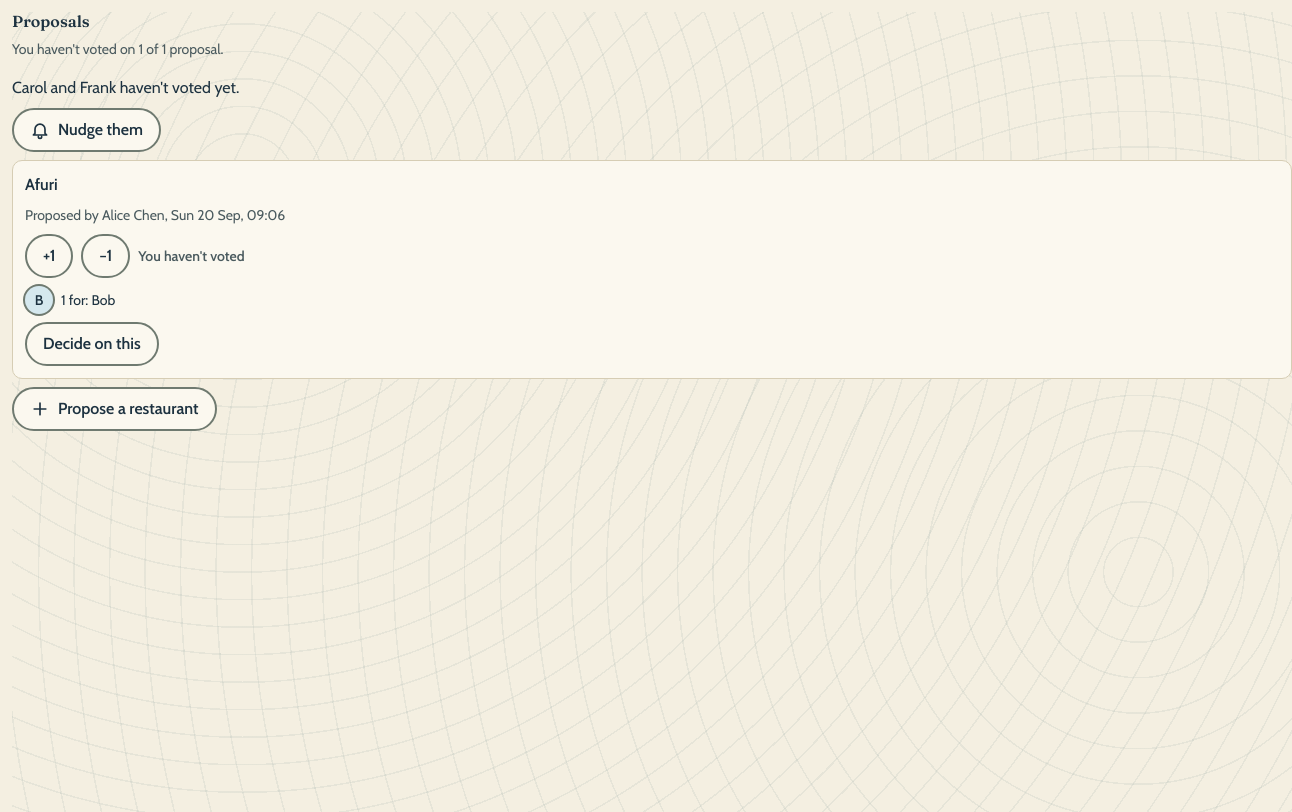
it: the cooldown › a nudge someone else sent meanwhile is refused, and the cooldown shown
Click the button "Nudge them" at (86, 130), box [12,108,161,152]
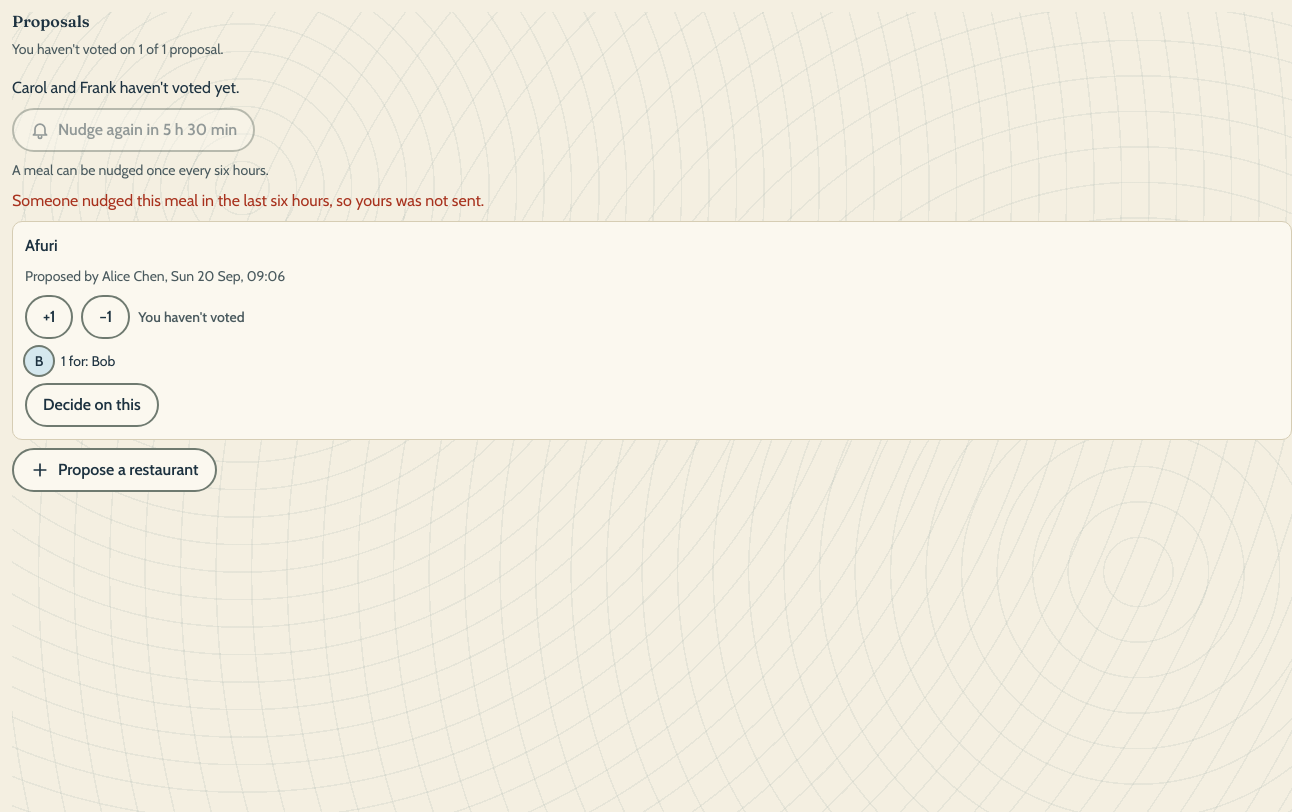
Now the message "Someone nudged this meal in the last six hours, so yours was not sent." is shown, box [12,191,484,210]
Now the button "Nudge again in 5 h 30 min" is shown, box [12,108,255,152]
